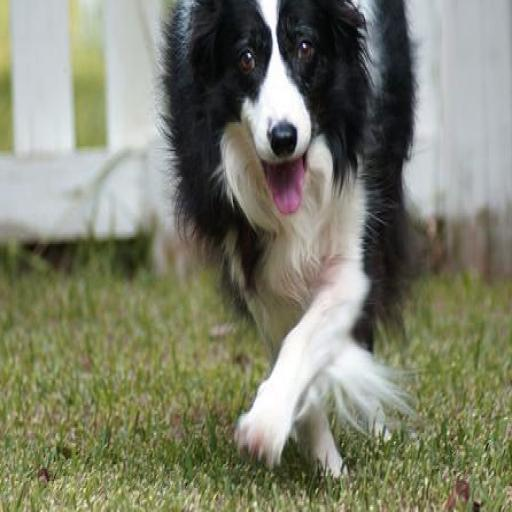dog_face: (198, 0, 358, 213)
